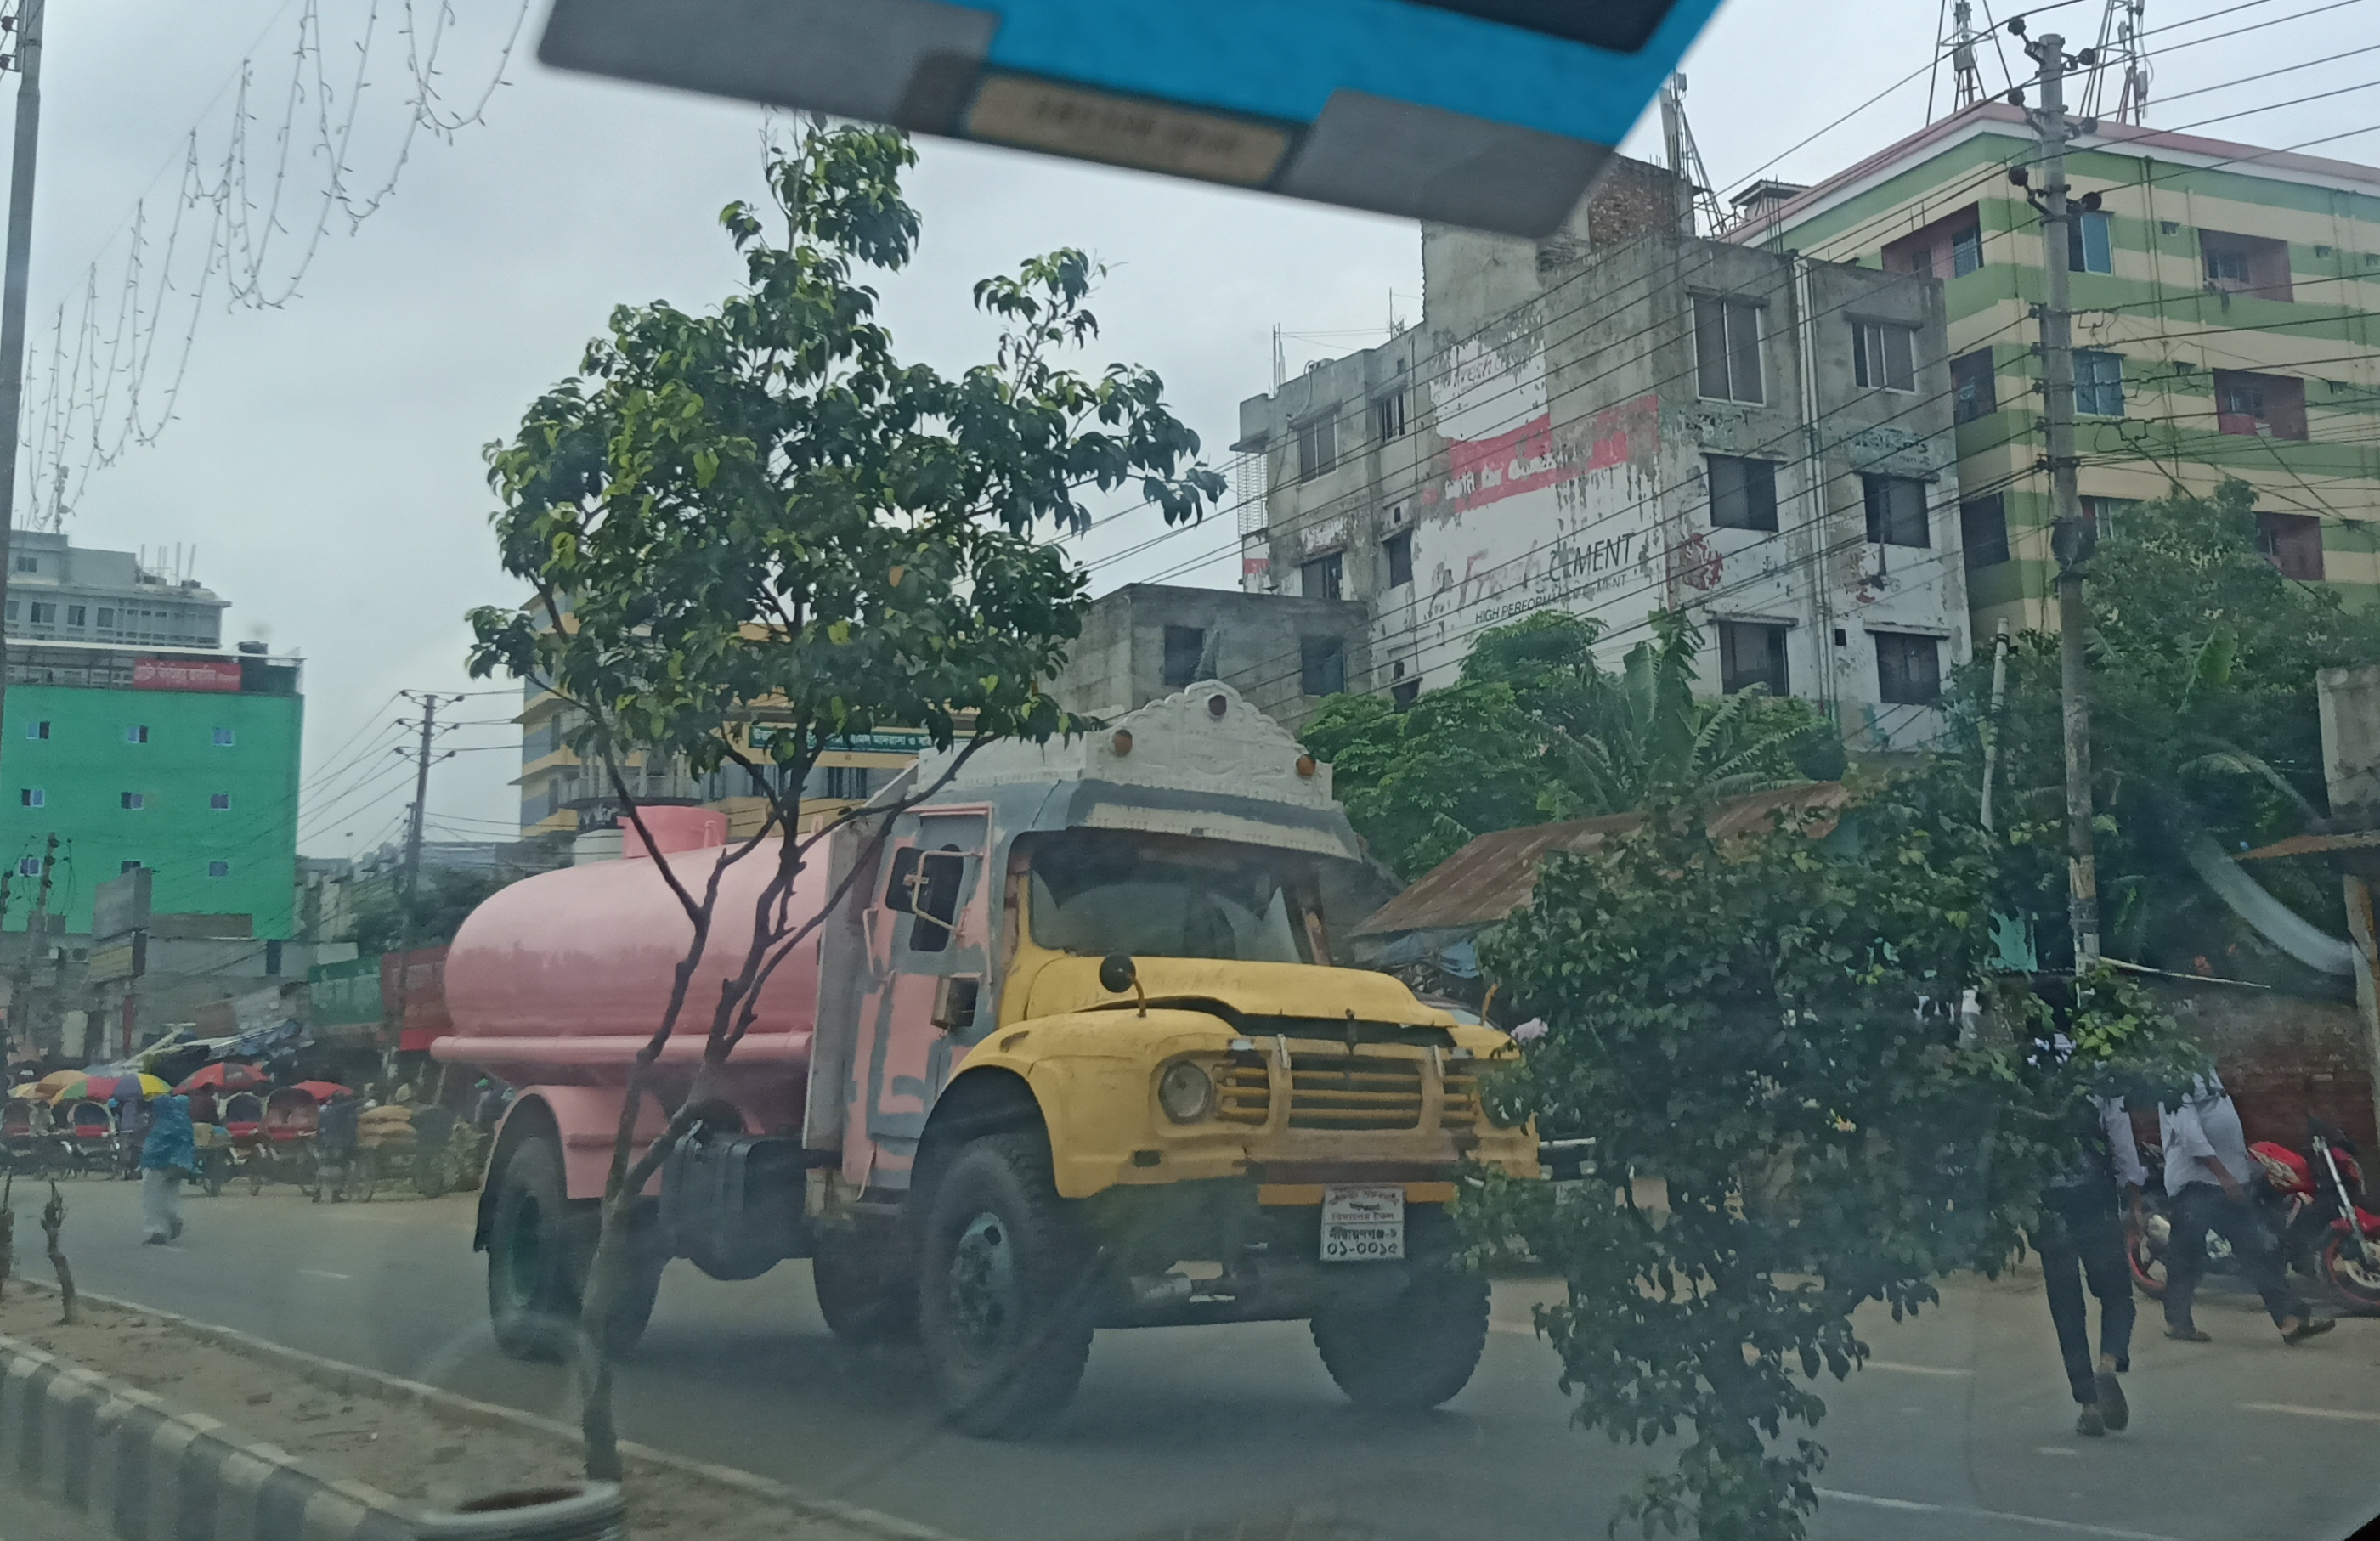bike: (2113, 1115, 2380, 1312)
rickshaw: (258, 1089, 357, 1187), (61, 1102, 128, 1170), (213, 1090, 260, 1179)
truck: (437, 688, 1533, 1425)
